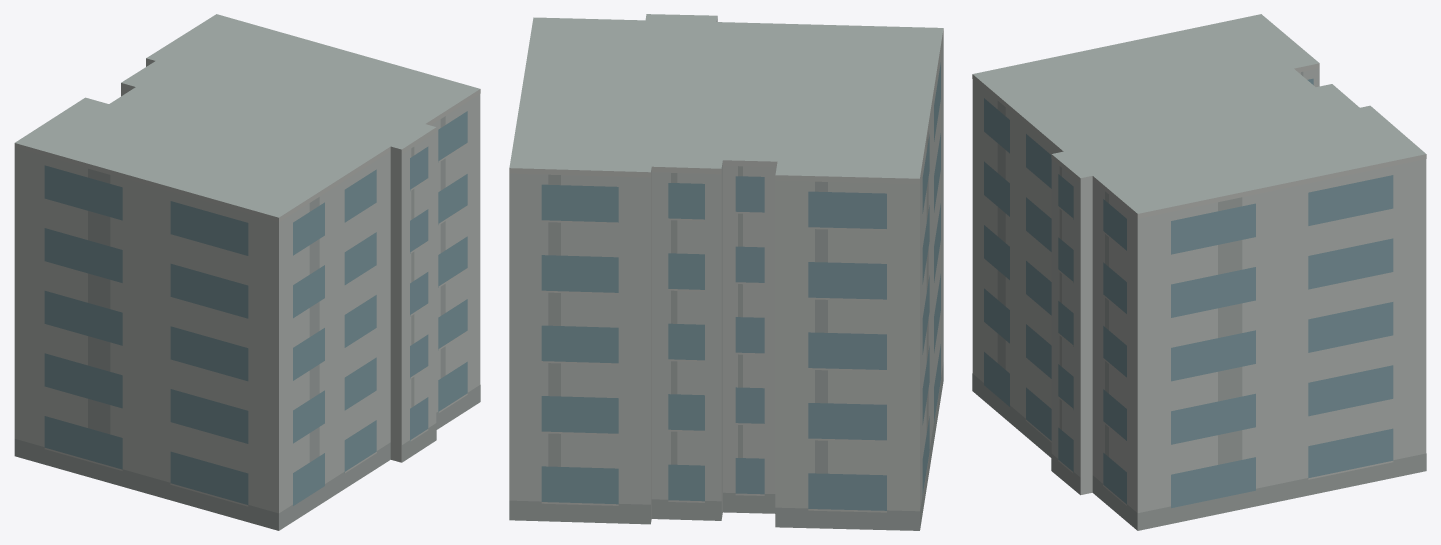
Rendered from survey-upis-32800746.glb.
The picture shows the model from 3 angles, left to right: view 1: azimuth 30°, elevation 25°; view 2: azimuth 150°, elevation 25°; view 3: azimuth 270°, elevation 25°; orthographic projection. The views are drawn at different scales.
Visible parts, largest first — view 1: survey-upis-32800746.tmp; view 2: survey-upis-32800746.tmp; view 3: survey-upis-32800746.tmp.
Boxes of the visible parts, <box> form: survey-upis-32800746.tmp: <box>14,14,480,530</box>; survey-upis-32800746.tmp: <box>509,14,943,530</box>; survey-upis-32800746.tmp: <box>972,14,1426,530</box>.
Bounding box in the file's own units: 21.04 × 15.55 × 20.19.
